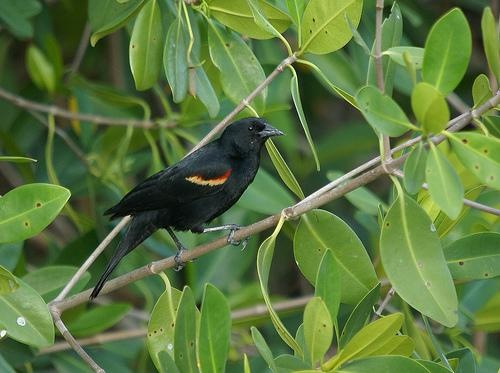bird: (85, 118, 284, 299)
